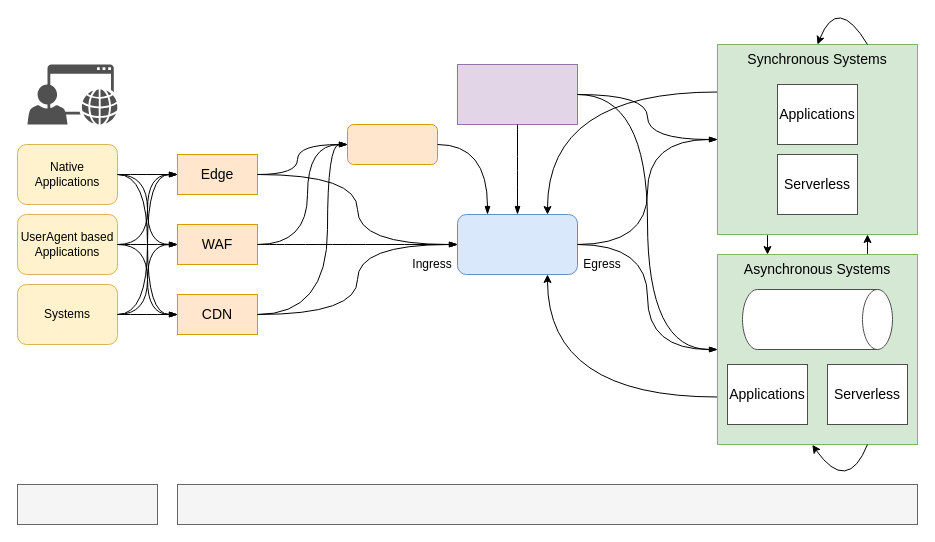
Some shapes in this 935 by 542 pixel diagram are drawn without their labels. Here are the shapes that lost their labels. From the top down, the centre of each, then its label:
At [517,94]: "Batch Systems".
At [392,144]: "API Gateway or BFF".
At [517,244]: "Gateway".
At [817,319]: "Messaging Streaming".
At [87,504]: "User Env.".
At [547,504]: "On-Premise, VMs, Containers, SaaS ....".
